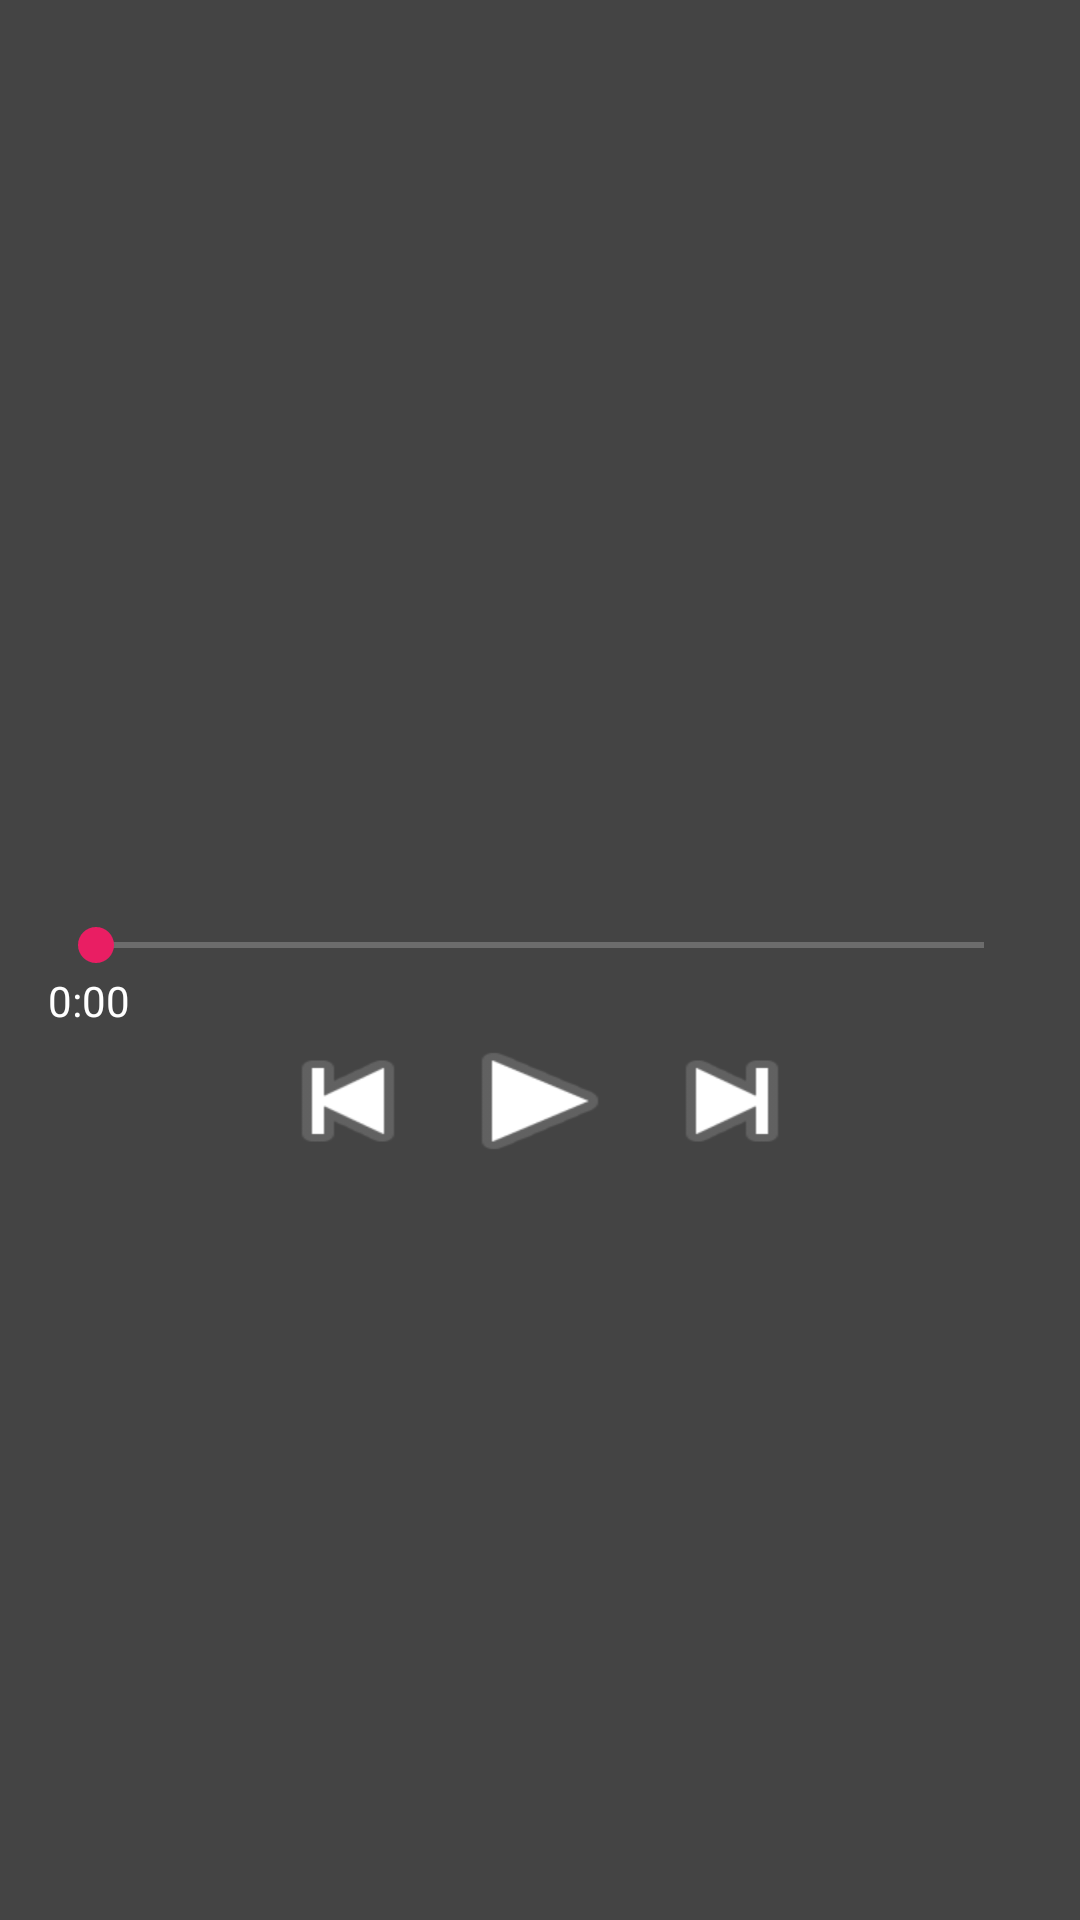

Icons on this 1080*1920 Android screen, each with the point to tap as [x,y]:
next: [732,1101]
play: [540,1101]
previous: [348,1101]
